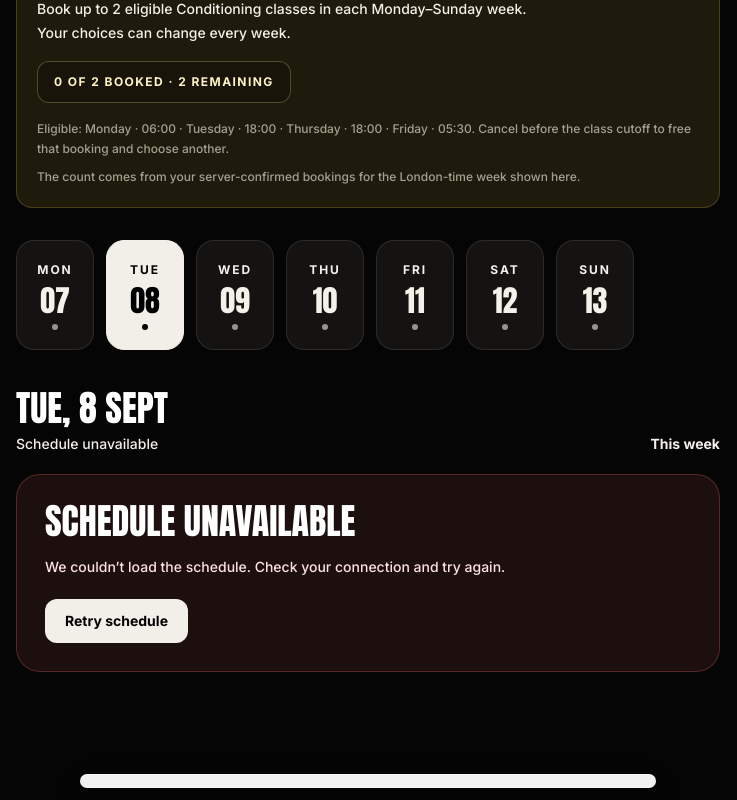
Test: member schedule hardening › shows a truthful schedule error and retries instead of claiming there are no sessions
(page scrolled)
Expected: the heading "Schedule unavailable" is shown, left=45, top=494, right=355, bottom=548
Click the button "Retry schedule" at [116, 621], box left=45, top=599, right=188, bottom=643
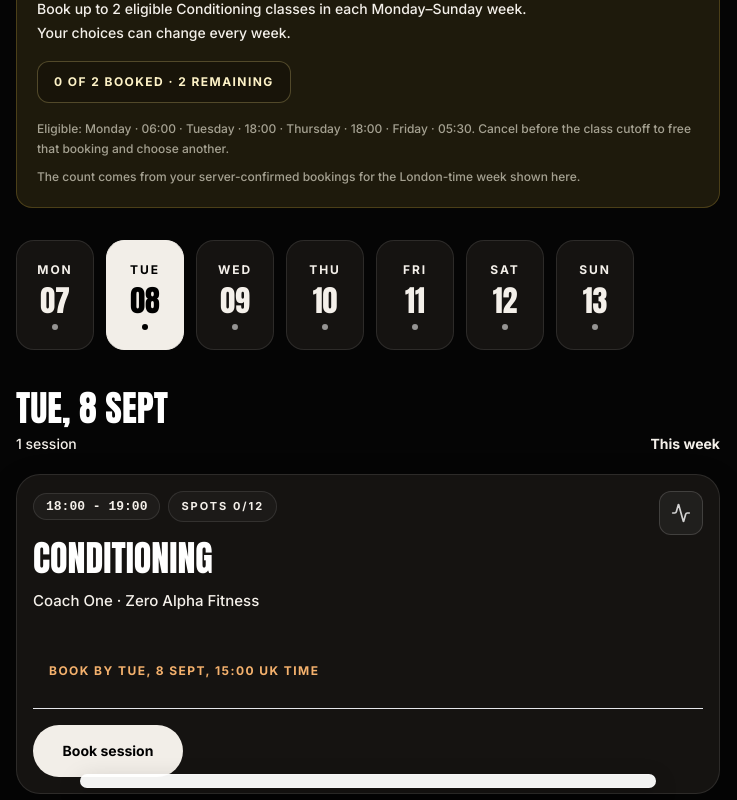
Now the button "Book session" is enabled, box left=33, top=725, right=183, bottom=777
